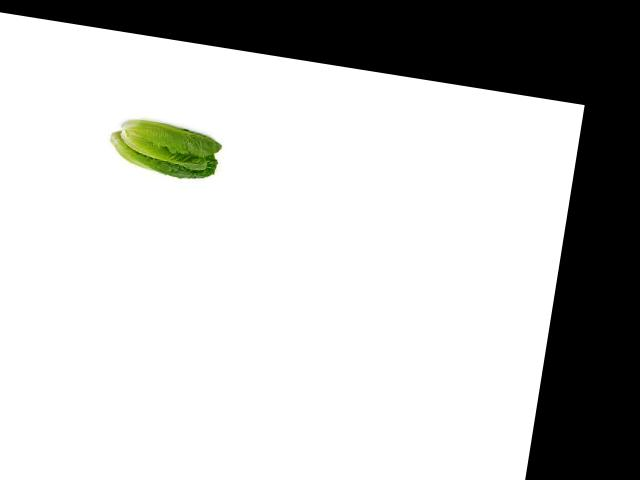lettuce: (106, 108, 226, 183)
